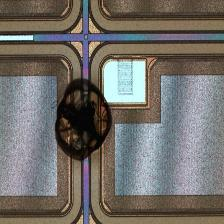PARTICLE: (52, 76, 116, 165)
